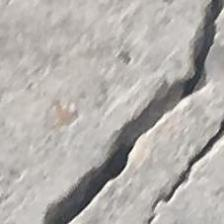Crack: (31, 0, 224, 224)
